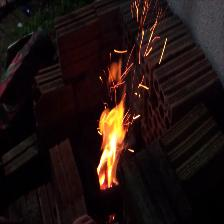fire: (97, 51, 131, 192)
